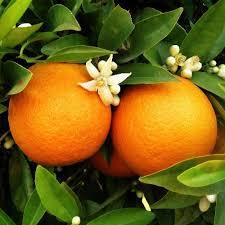orange: (1, 44, 111, 154), (112, 79, 205, 161)
